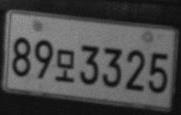2: (125, 49, 146, 91)
3: (101, 47, 122, 87), (79, 44, 99, 84)
5: (148, 52, 168, 93)
8: (11, 36, 31, 77)
9: (34, 39, 53, 78)
모: (55, 49, 75, 82)
